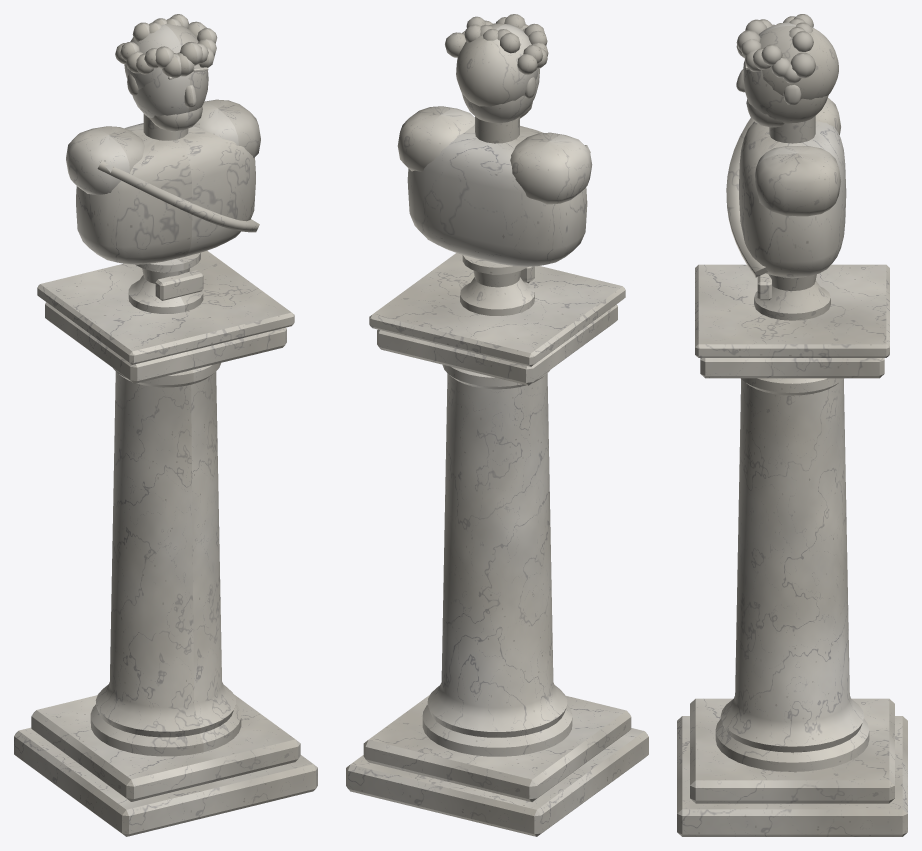
File: lib_bust.obj
The picture shows the model from 3 angles, left to right: view 1: azimuth 30°, elevation 25°; view 2: azimuth 150°, elevation 25°; view 3: azimuth 270°, elevation 25°; orthographic projection. The views are drawn at different scales.
Parts seen in each view (by area): view 1: lib_bust; view 2: lib_bust; view 3: lib_bust.
Part boxes in pixels (x1,y1,x2,y2): lib_bust: (14,14,317,836); lib_bust: (346,14,648,836); lib_bust: (677,14,907,836).
Bounding box in the file's own units: 0.45 × 1.65 × 0.45.
1 material, 1 textured.
